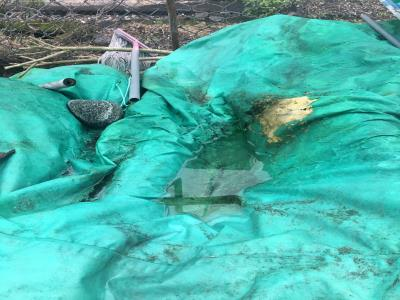plastic_bag: (3, 18, 398, 298)
